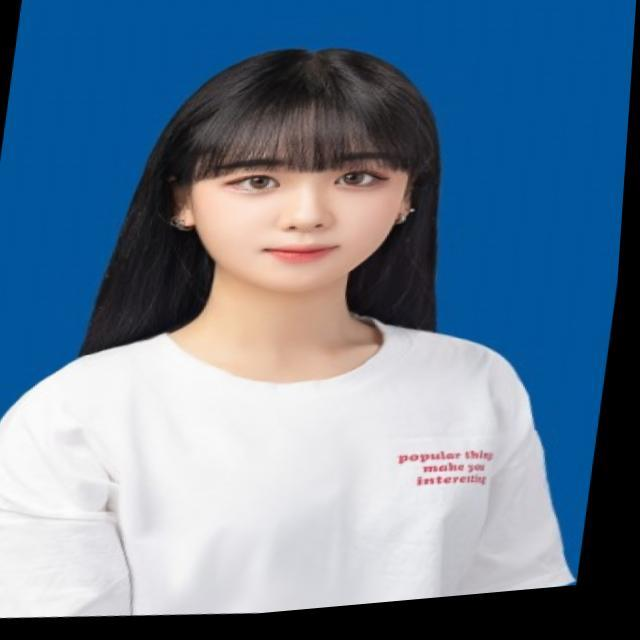Nonhelmet: (143, 15, 434, 328)
